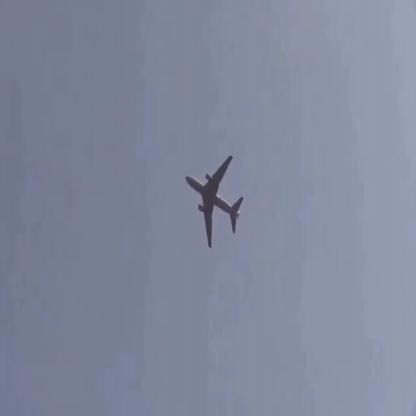CIV_Plane: (184, 156, 244, 249)
